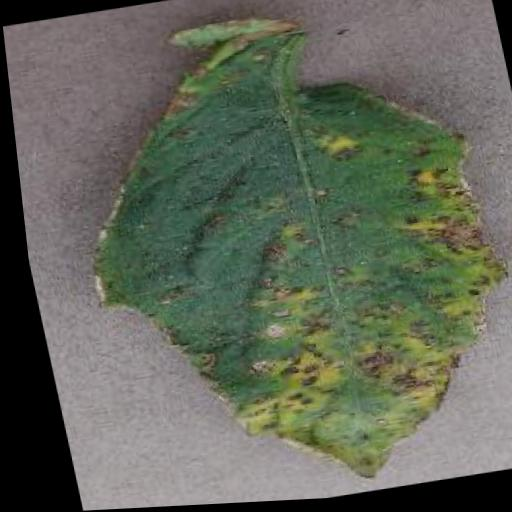Bacterial Spot: (37, 0, 512, 511)
